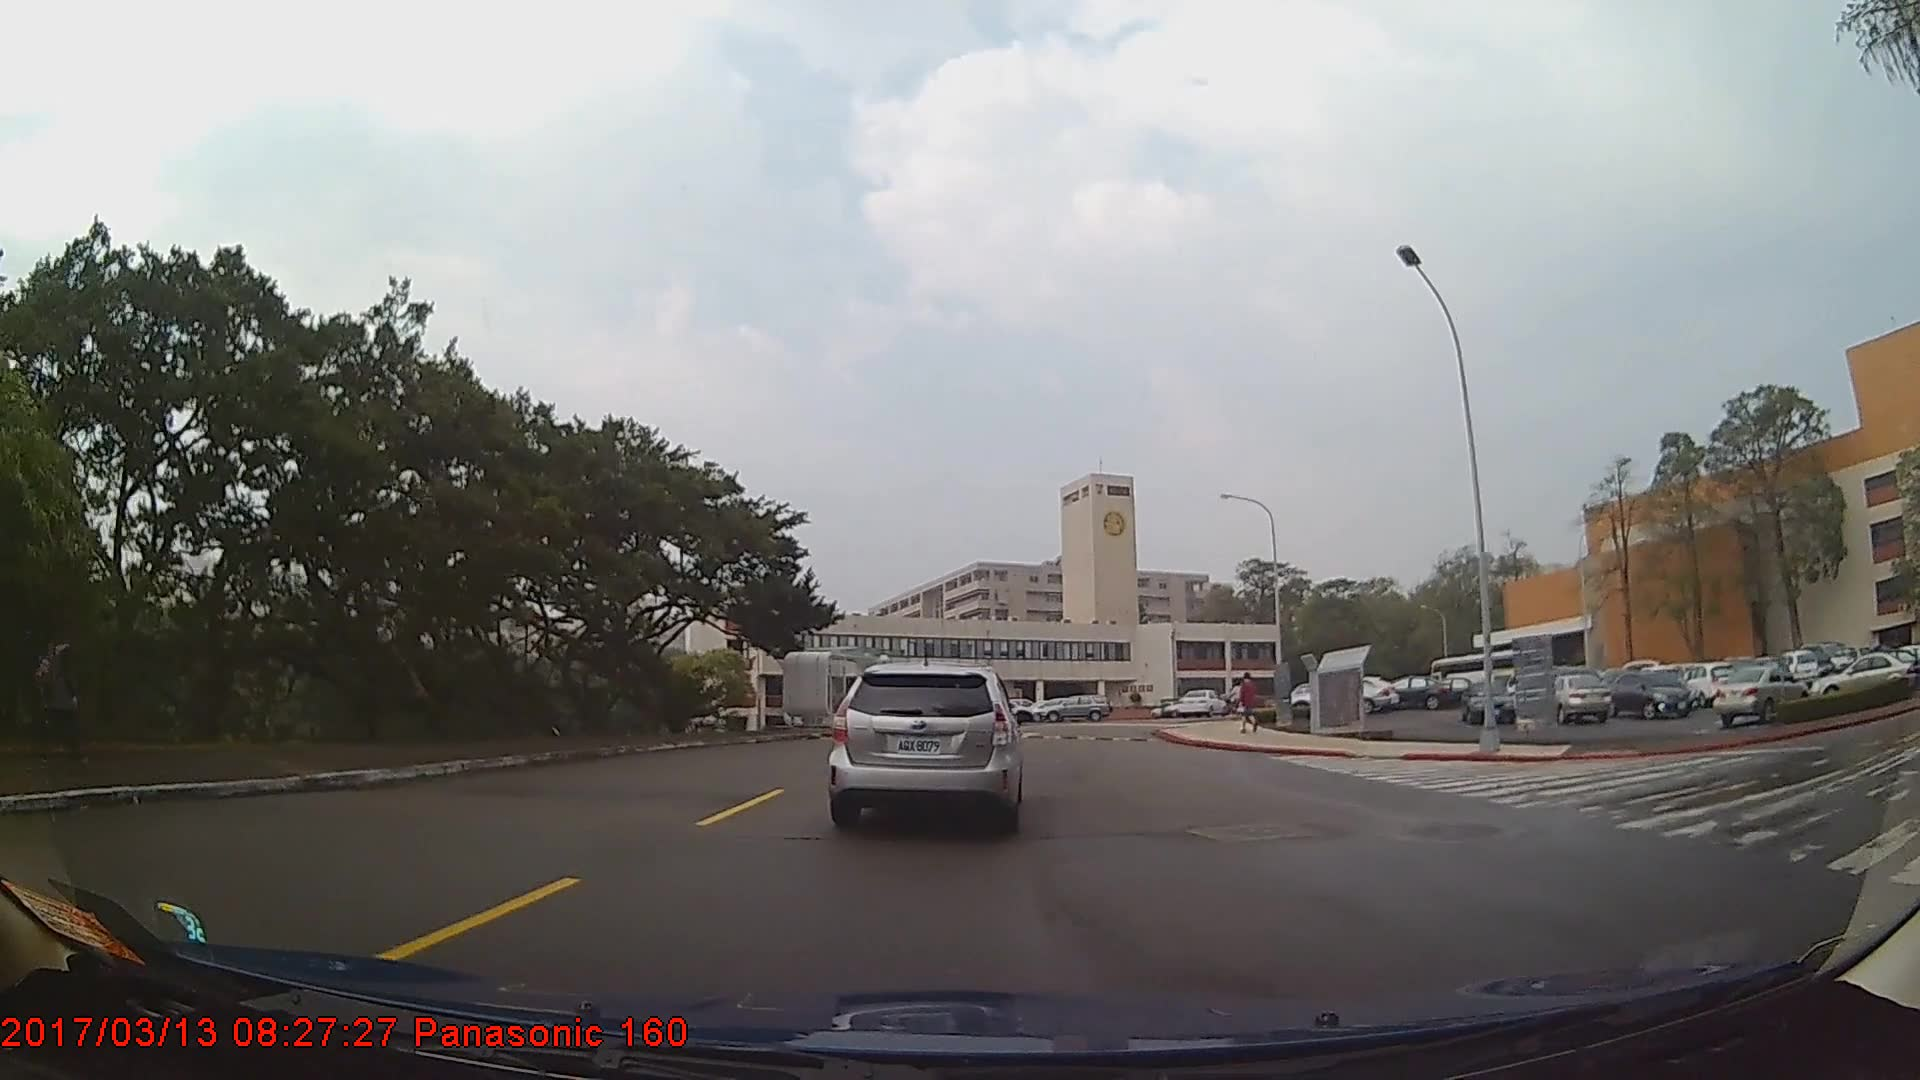pedestrian: (28, 622, 87, 760), (1238, 673, 1260, 735)
vehicle: (830, 657, 1023, 831), (1714, 663, 1808, 725), (1809, 651, 1908, 700), (1605, 668, 1691, 718), (1547, 671, 1613, 725), (1378, 676, 1453, 712), (1460, 680, 1518, 724), (1034, 694, 1111, 723), (1176, 686, 1228, 717)
